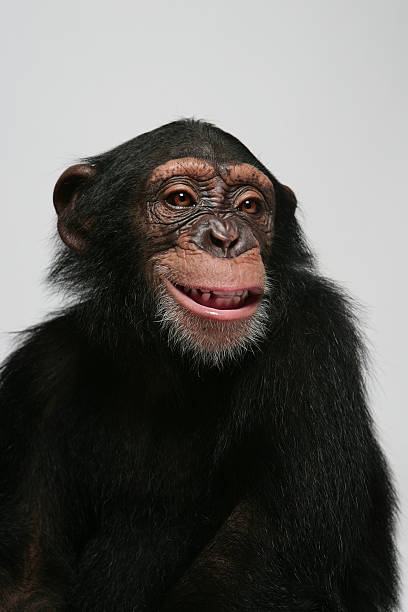chimpanzee: (37, 104, 375, 398)
